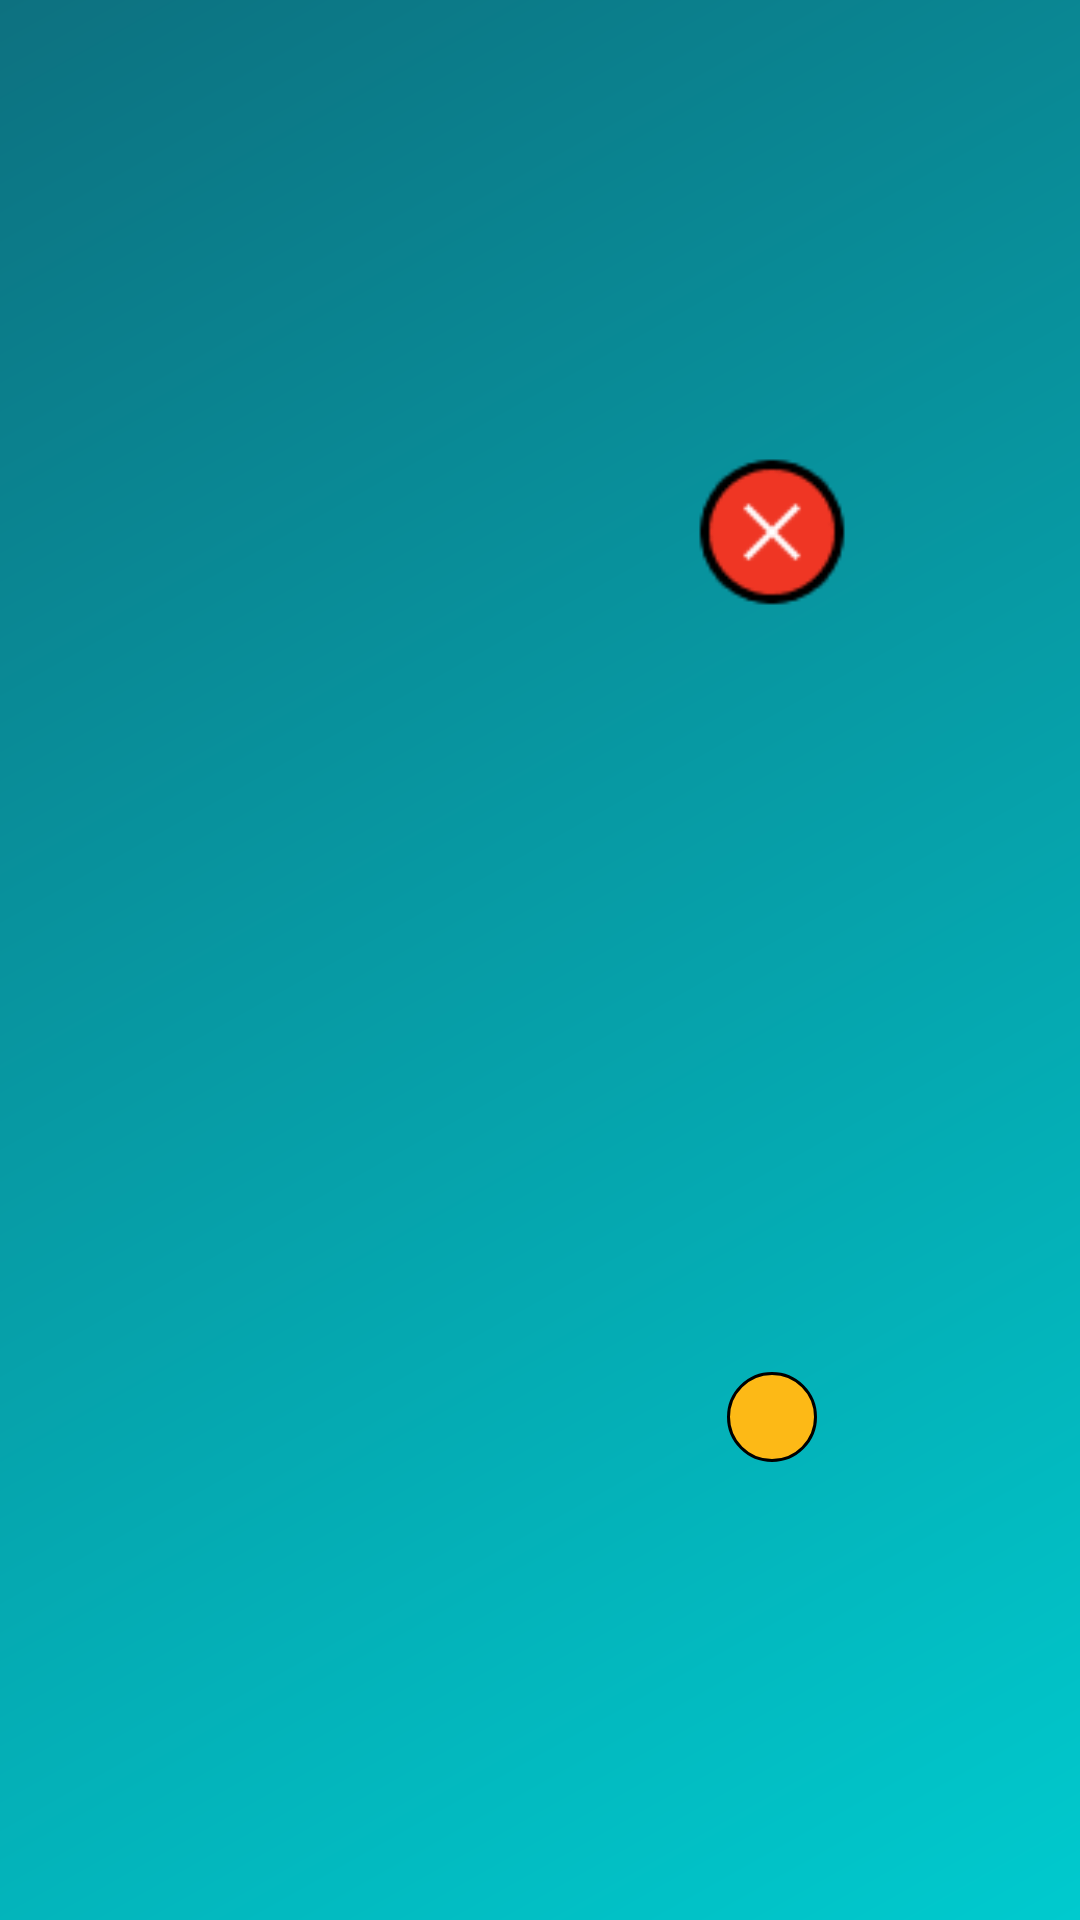

Locate icon controls on the screen. Image size 1080 x 1920, boxes as (x1, y1, x2, y2).
scanagain close: (699, 459, 845, 605)
